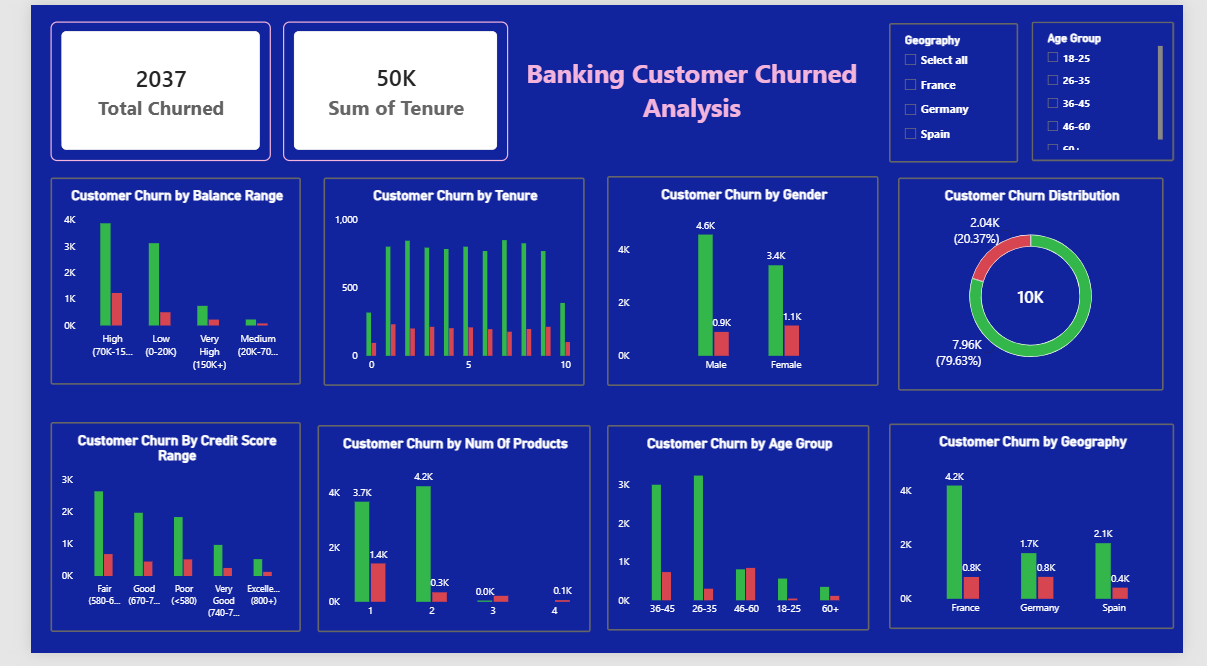

The dashboard page shown, as its layout file describes it:
{"tool":"powerbi","page":{"name":"Page 1","canvas":[1920,1080],"ordinal":0},"visuals":[{"type":"donutChart","title":"Customer Churn Distribution","fields":{"Category":["churn.Exited"],"Y":["CountNonNull(churn.CustomerId)"]},"box":[1445,287.5,442.5,355],"z":0},{"type":"clusteredColumnChart","title":"Customer Churn by Geography","fields":{"Category":["churn.Geography"],"Series":["churn.Exited"],"Y":["CountNonNull(churn.CustomerId)"]},"box":[1430,697.5,475,342.5],"z":1},{"type":"clusteredColumnChart","title":"Customer Churn by Gender","fields":{"Category":["churn.Gender"],"Series":["churn.Exited"],"Y":["CountNonNull(churn.CustomerId)"]},"box":[960,285,452.5,350],"z":2},{"type":"clusteredColumnChart","title":"Customer Churn by Age Group","fields":{"Category":["churn.Age Group"],"Series":["churn.Exited"],"Y":["CountNonNull(churn.CustomerId)"]},"box":[960,700,437.5,342.5],"z":3},{"type":"clusteredColumnChart","title":"Customer Churn by Tenure ","fields":{"Category":["churn.Tenure"],"Series":["churn.Exited"],"Y":["CountNonNull(churn.CustomerId)"]},"box":[487.5,287.5,435,347.5],"z":4},{"type":"clusteredColumnChart","title":" Customer Churn by Num Of Products  ","fields":{"Category":["churn.NumOfProducts"],"Series":["churn.Exited"],"Y":["CountNonNull(churn.CustomerId)"]},"box":[477.5,700,455,345],"z":5},{"type":"clusteredColumnChart","title":"Customer Churn by Balnace Range","fields":{"Category":["churn.Balance Range"],"Series":["churn.Exited"],"Y":["CountNonNull(churn.CustomerId)"]},"box":[32.5,287.5,417.5,345],"z":6},{"type":"clusteredColumnChart","title":"Customer Churn By Credit Score Range","fields":{"Category":["churn.Credit Score Range"],"Series":["churn.Exited"],"Y":["CountNonNull(churn.CustomerId)"]},"box":[32.5,695,417.5,350],"z":7},{"type":"cardVisual","fields":{"Data":["churn.Total Churned"]},"box":[32.5,27.5,367.5,232.5],"z":8},{"type":"cardVisual","fields":{"Data":["Sum(churn.Tenure)"]},"box":[420,27.5,375,232.5],"z":9},{"type":"textbox","box":[805,27.5,592.5,232.5],"z":10},{"type":"slicer","fields":{"Values":["churn.Geography"]},"box":[1430,30,215,232.5],"z":11},{"type":"slicer","fields":{"Values":["churn.Age Group"]},"box":[1667.5,27.5,237.5,232.5],"z":12}]}

Visuals, with their boxes in screenshot pixels (x1, y1, x2, y2), scaled from the page's 1920x1080 canvas onto the 1207x666 screenshot:
"Customer Churn Distribution" donutChart: 908,177,1187,396
"Customer Churn by Geography" clusteredColumnChart: 899,430,1198,641
"Customer Churn by Gender" clusteredColumnChart: 604,176,888,392
"Customer Churn by Age Group" clusteredColumnChart: 604,432,879,643
"Customer Churn by Tenure " clusteredColumnChart: 306,177,580,392
" Customer Churn by Num Of Products  " clusteredColumnChart: 300,432,586,644
"Customer Churn by Balnace Range" clusteredColumnChart: 20,177,283,390
"Customer Churn By Credit Score Range" clusteredColumnChart: 20,429,283,644
cardVisual - churn.Total Churned: 20,17,251,160
cardVisual - Sum(churn.Tenure): 264,17,500,160
textbox: 506,17,879,160
slicer - churn.Geography: 899,18,1034,162
slicer - churn.Age Group: 1048,17,1198,160
